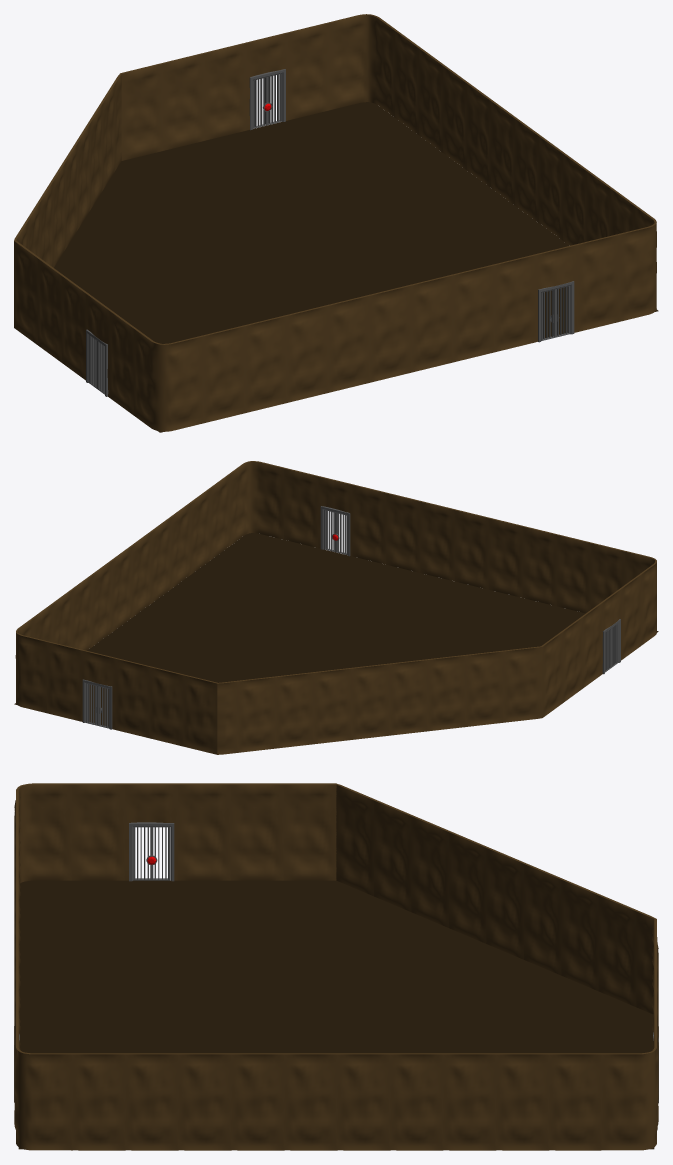
File: room_2_FINAL.fbx
The picture shows the model from 3 angles, top to bottom: view 1: azimuth 30°, elevation 25°; view 2: azimuth 150°, elevation 25°; view 3: azimuth 270°, elevation 25°; orthographic projection. The views are drawn at different scales.
Parts seen in each view (by area): view 1: FLOOR, DOORWAY (×3), CORNER_11, CORNER_9, WALL65, WALL48, WALL49, WALL63, CORNER_10, WALL61, WALL68, WALL67 (+30 smaller); view 2: FLOOR, DOORWAY (×3), CORNER_10, WALL72, WALL77, WALL76, WALL79, WALL74, WALL75, WALL78, WALL73, WALL47 (+31 smaller); view 3: FLOOR, CORNER_10, CORNER_9, WALL71, WALL46, WALL59, WALL58, WALL57, WALL54, WALL56, WALL55, WALL69 (+18 smaller).
Part boxes in pixels (box(x1,y1,x2,y2)): FLOOR: box(54, 102, 658, 432); DOORWAY (×3): box(86, 32, 576, 397); CORNER_11: box(134, 328, 202, 431); CORNER_9: box(328, 14, 396, 117); WALL65: box(326, 295, 369, 392); WALL48: box(204, 43, 246, 140); WALL49: box(287, 22, 329, 120); WALL63: box(410, 275, 452, 372); CORNER_10: box(617, 206, 656, 321); WALL61: box(493, 254, 535, 352); WALL68: box(202, 325, 244, 423); WALL67: box(243, 315, 285, 413); FLOOR: box(14, 533, 658, 726); DOORWAY (×3): box(81, 476, 621, 729); CORNER_10: box(229, 461, 284, 545); WALL72: box(503, 646, 542, 722); WALL77: box(313, 668, 351, 744); WALL76: box(351, 663, 389, 739); WALL79: box(237, 676, 275, 752); WALL74: box(427, 655, 465, 731); WALL75: box(389, 659, 427, 735); WALL78: box(275, 672, 313, 748); WALL73: box(465, 650, 503, 726); WALL47: box(149, 666, 183, 746); FLOOR: box(18, 880, 654, 1149); CORNER_10: box(14, 1031, 71, 1150); CORNER_9: box(601, 1031, 658, 1150); WALL71: box(230, 783, 283, 880); WALL46: box(283, 783, 336, 880); WALL59: box(71, 1053, 124, 1150); WALL58: box(124, 1053, 177, 1150); WALL57: box(177, 1053, 230, 1150); WALL54: box(336, 1053, 389, 1150); WALL56: box(230, 1053, 283, 1150); WALL55: box(283, 1053, 336, 1150); WALL69: box(71, 783, 124, 880).
Bounding box in the file's own units: 1216 × 200 × 1217.
